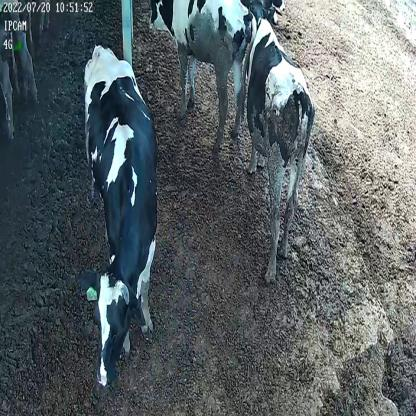cow: (77, 43, 160, 394), (247, 16, 317, 285), (147, 0, 255, 153)
